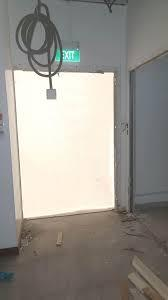exit: (14, 70, 116, 218)
lit_exit_sign: (55, 47, 81, 65)
